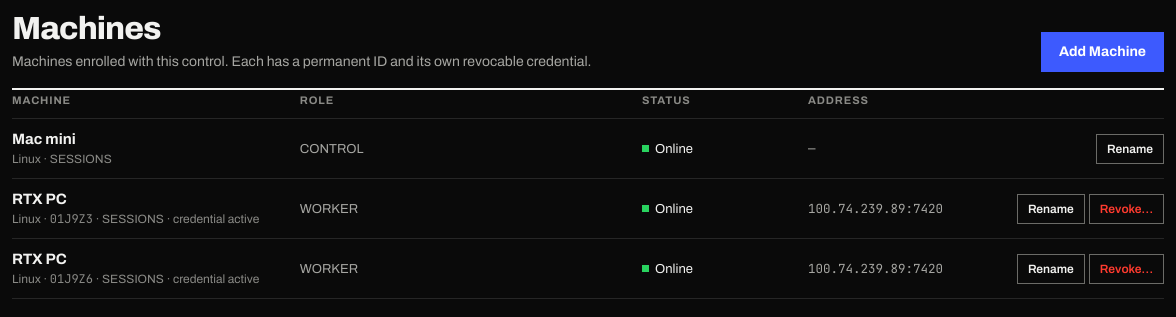
Test case: MachinesTab (control registry) › revoking one Machine needs confirmation and leaves the other online
Click the button "Revoke…" in the row of "01J9Z3". click: (1126, 208)
box: x1=1089 y1=194 x2=1164 y2=224
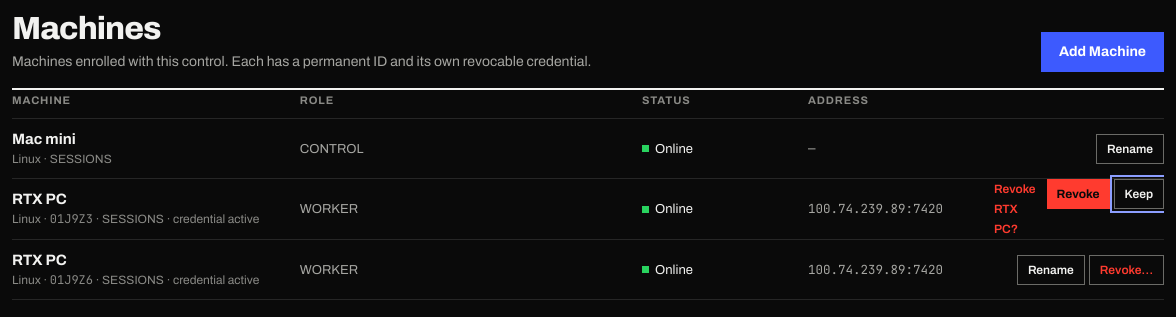
Click the button "Revoke". click: (1078, 194)
box: x1=1047 y1=179 x2=1110 y2=209
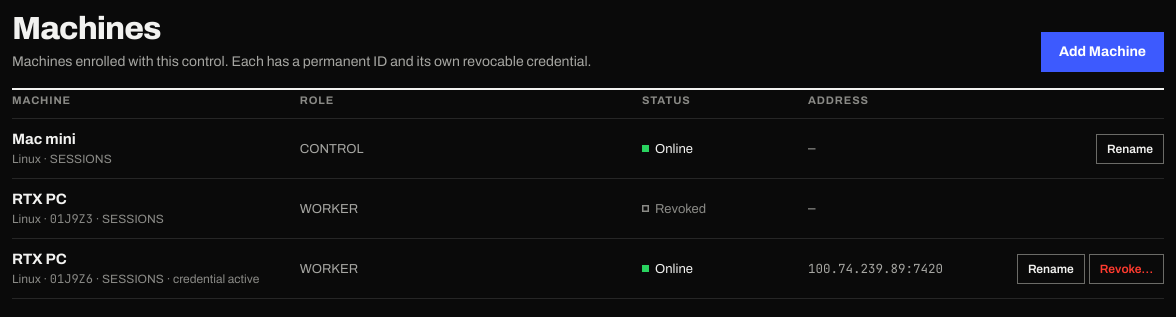
Expected: the text "Online" is shown, x1=642 y1=262 x2=693 y2=276
Now the text "Revoked" is shown, box x1=642 y1=202 x2=706 y2=216
